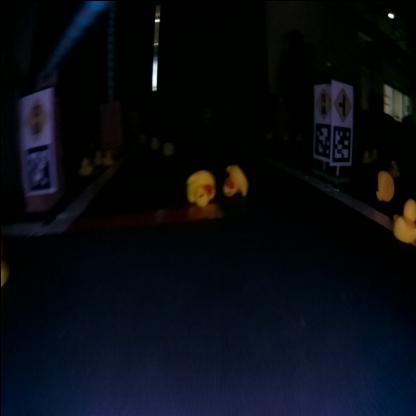Duckie: (186, 168, 214, 206), (392, 200, 414, 242), (221, 163, 245, 196), (375, 170, 393, 199)
Intersection sign: (332, 84, 351, 120)
QR code: (20, 142, 52, 190), (330, 124, 350, 162), (313, 121, 329, 157)
Signal sign: (312, 86, 330, 117)
